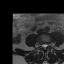CCS_normal: (43, 42, 45, 51)
LFS_stenosis: (48, 41, 50, 47)
LLS_normal: (45, 41, 48, 48)
RFS_stenosis: (39, 41, 41, 47)
RLS_normal: (41, 41, 43, 49)
